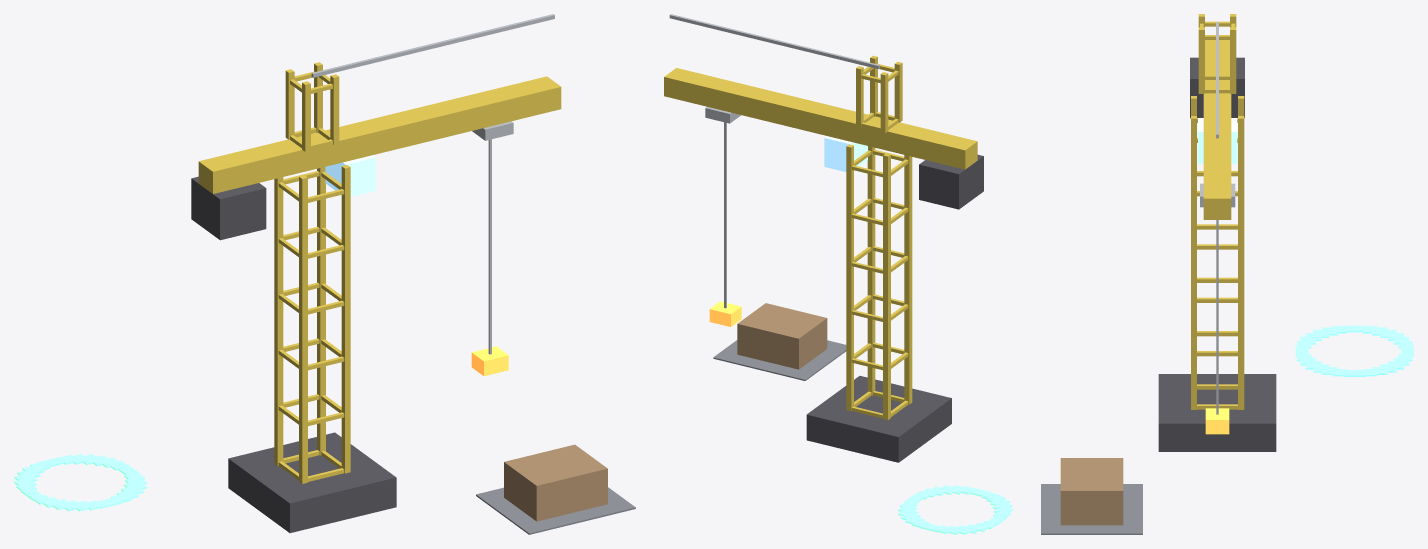
File: wing-robot-crane-lift.glb
3 renders of one model, left to right at view 1: azimuth 30°, elevation 25°; view 2: azimuth 150°, elevation 25°; view 3: azimuth 270°, elevation 25°, orthographic. The views are drawn at different scales.
Parts seen in each view (by area): view 1: Robot · tower crane; view 2: Robot · tower crane; view 3: Robot · tower crane.
Part boxes in pixels (left/top/right/bottom): Robot · tower crane: left=14, top=14, right=635, bottom=534; Robot · tower crane: left=664, top=14, right=1012, bottom=534; Robot · tower crane: left=1041, top=14, right=1413, bottom=534.
Bounding box in the file's own units: 12.81 × 11.4 × 9.51.
